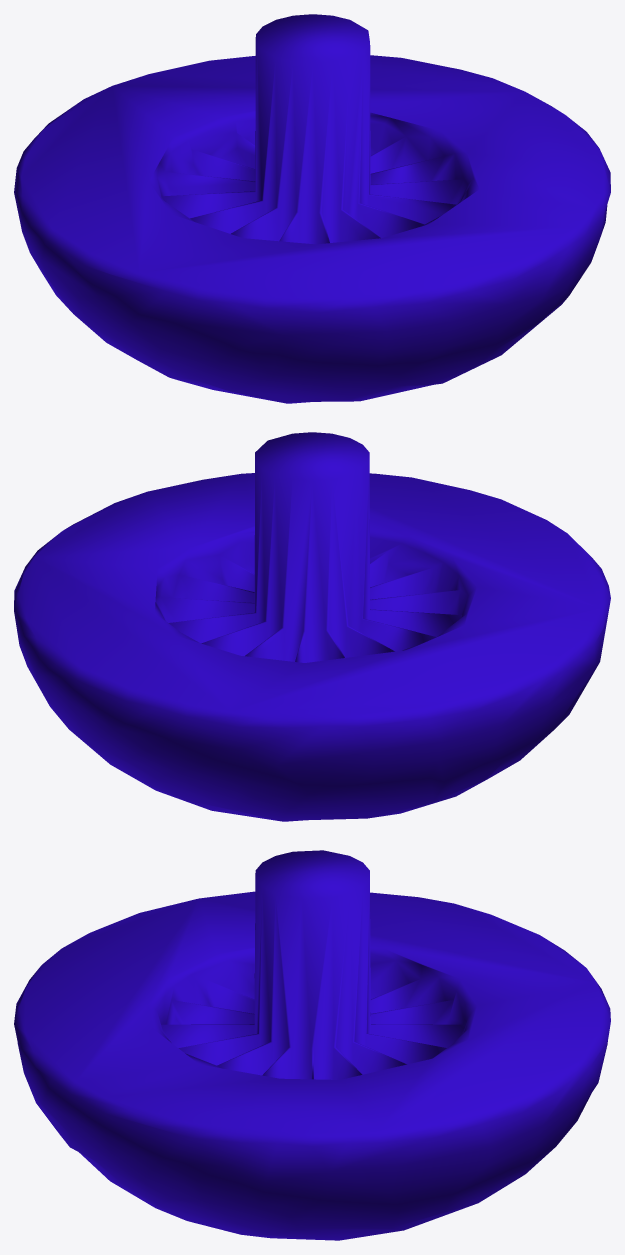
Rendered from Magic Mushroom.obj.
3 renders of one model, top to bottom at view 1: azimuth 30°, elevation 25°; view 2: azimuth 150°, elevation 25°; view 3: azimuth 270°, elevation 25°, orthographic.
Visible parts, largest first — view 1: Magic_Mushroom; view 2: Magic_Mushroom; view 3: Magic_Mushroom.
Part boxes in pixels (<box>): Magic_Mushroom: <box>14,14,610,403</box>; Magic_Mushroom: <box>14,432,610,821</box>; Magic_Mushroom: <box>14,850,610,1240</box>.
Bounding box in the file's own units: 6.11 × 3.53 × 6.1.
